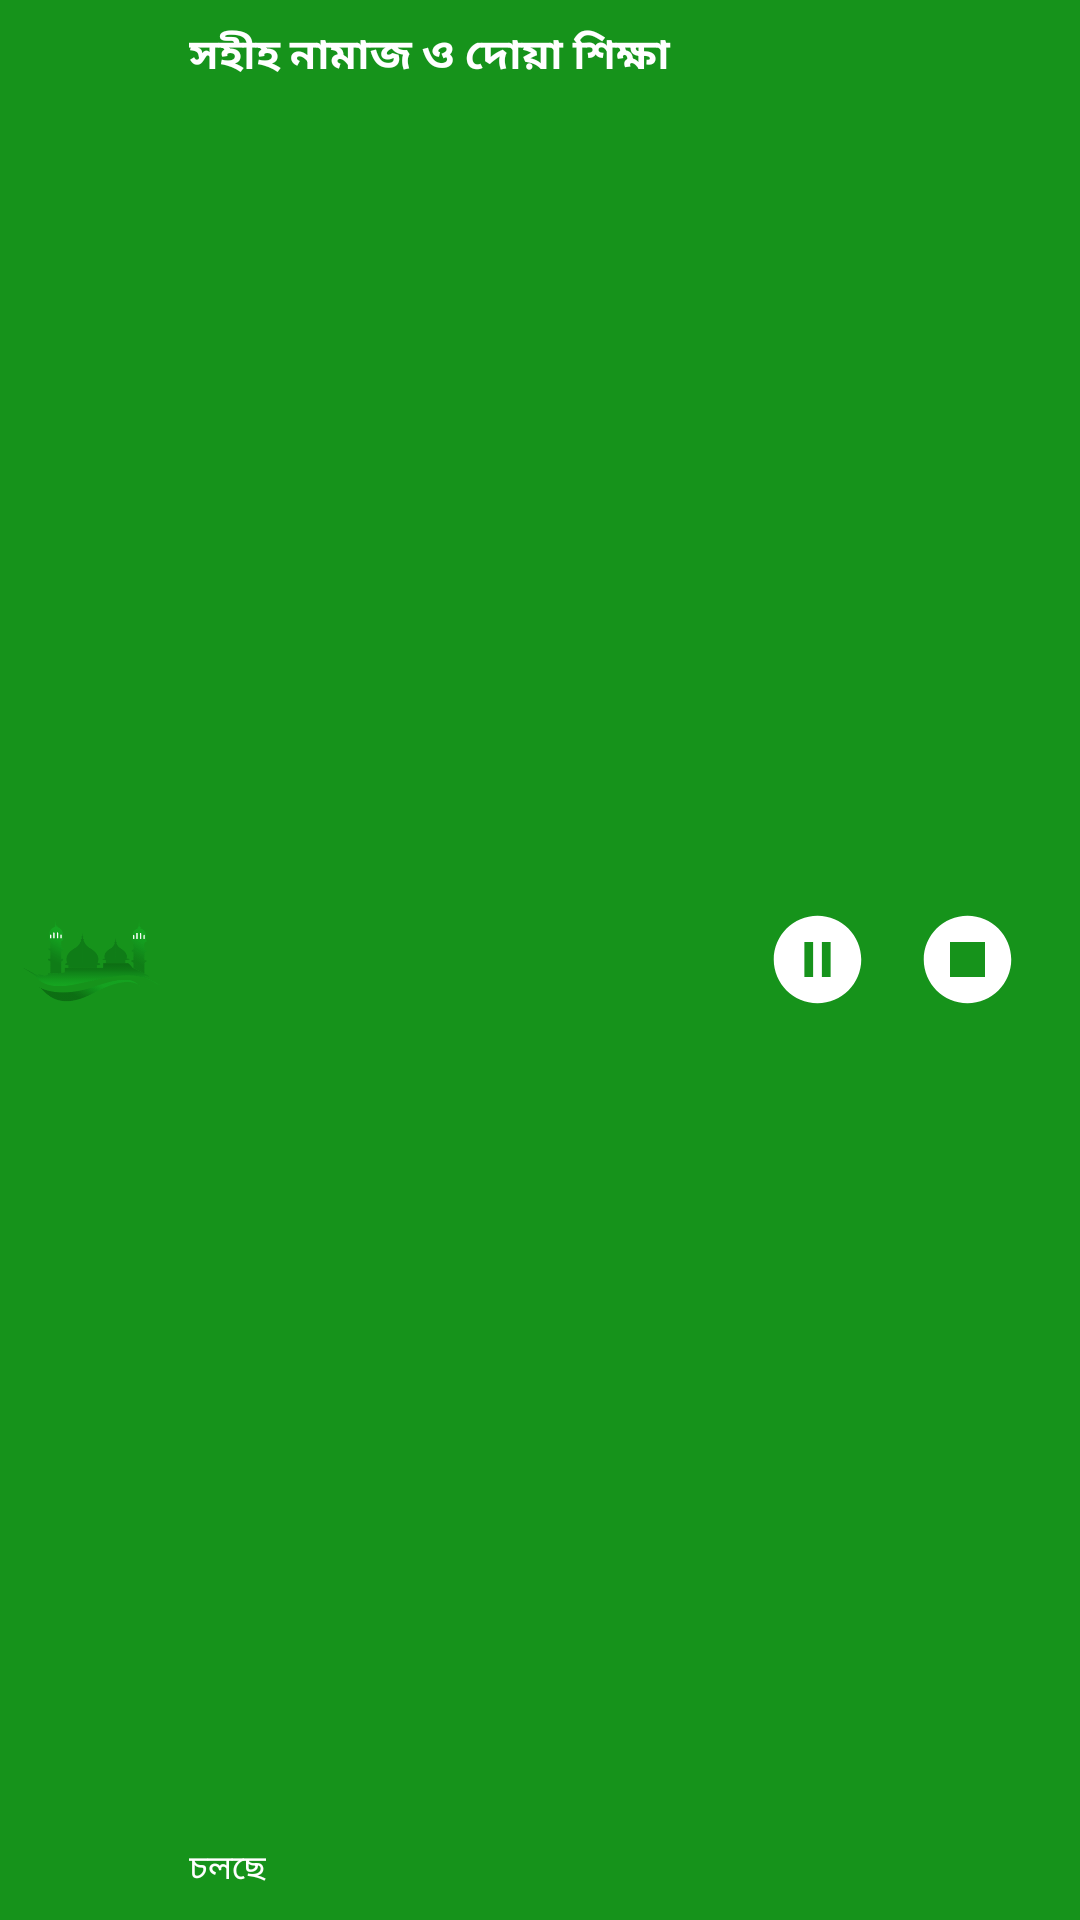

Where icons sit on this 1080w x 1920h app screen, as bbox(x1, y1, x2, y2):
pause circle: bbox(773, 915, 862, 1004)
stop circle: bbox(923, 915, 1012, 1004)
